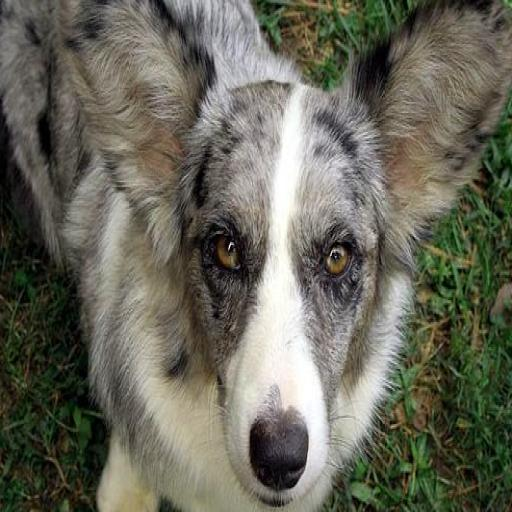dog_face: (70, 10, 485, 491)
